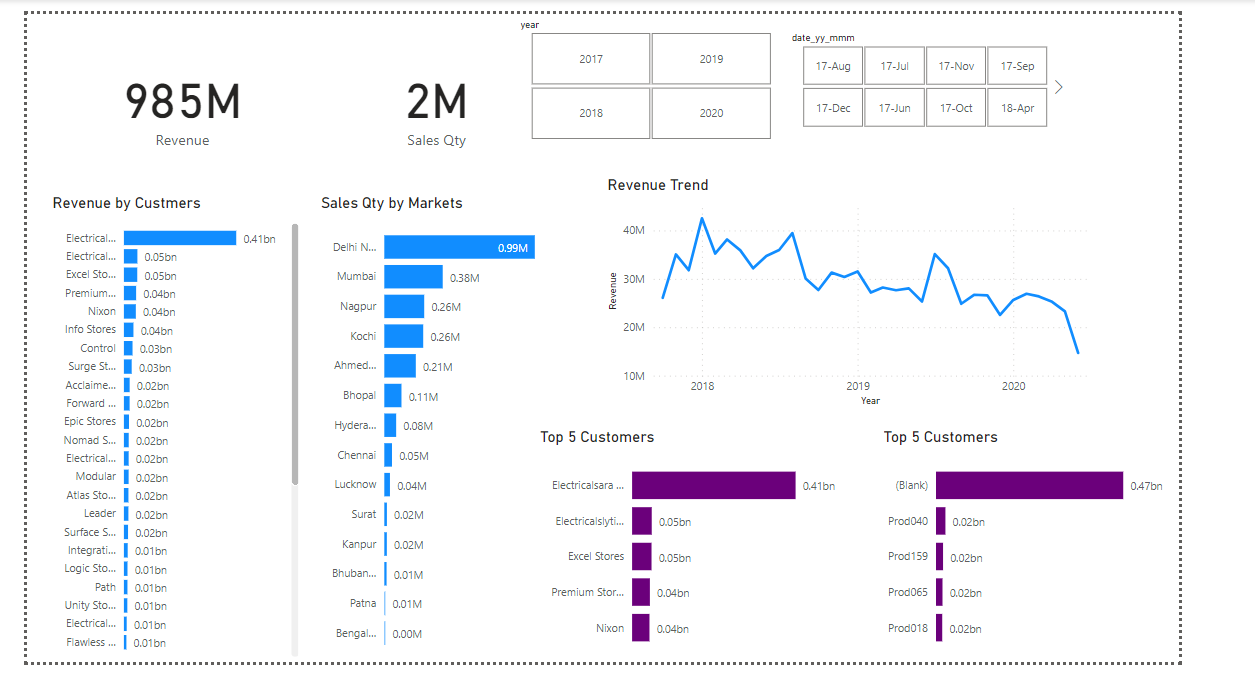

This screenshot's page, from the dashboard's own definition file:
{"tool":"powerbi","page":{"name":"Page 1","canvas":[1280,720],"ordinal":0},"visuals":[{"type":"card","fields":{"Values":["BaseMeasures.Revenue"]},"box":[22.7,0,298.3,200.1],"z":0},{"type":"card","fields":{"Values":["BaseMeasures.Sales Qty"]},"box":[305.8,0,296.4,200.1],"z":1000},{"type":"barChart","title":"Revenue by Custmers","fields":{"Category":["customers.custmer_name"],"Y":["BaseMeasures.Revenue"]},"box":[22.7,200.1,283.2,519.2],"z":2000},{"type":"barChart","title":"Sales Qty by Markets","fields":{"Y":["BaseMeasures.Sales Qty"],"Category":["markets.markets_name"]},"box":[320.9,200.1,249.2,519.2],"z":3000},{"type":"barChart","title":"Top 5 Customers","fields":{"Y":["BaseMeasures.Revenue"],"Category":["customers.custmer_name"]},"box":[564.5,460.6,375.7,258.6],"z":4000},{"type":"slicer","fields":{"Values":["date.year"]},"box":[534.3,0,315.3,145.4],"z":5000},{"type":"slicer","fields":{"Values":["date.date_yy_mmm"]},"box":[836.3,15.1,320.9,117.1],"z":6000},{"type":"barChart","title":"Top 5 Customers","fields":{"Category":["products.product_code"],"Y":["BaseMeasures.Revenue"]},"box":[945.8,460.6,334.2,258.6],"z":7000},{"type":"lineChart","title":"Revenue Trend","fields":{"Category":["date.cy_date.Variation.Date Hierarchy.Year","date.cy_date.Variation.Date Hierarchy.Month"],"Y":["BaseMeasures.Revenue"]},"box":[640,179.4,545.6,260.5],"z":8000}]}

Visuals, with their boxes on the page's 1280x720 design canvas (x1, y1, x2, y2). These are canvas units, not pixel positions in the 1255x678 screenshot, which may show the page scaled, cropped or inside an application window:
card - BaseMeasures.Revenue: [23, 0, 321, 200]
card - BaseMeasures.Sales Qty: [306, 0, 602, 200]
"Revenue by Custmers" barChart: [23, 200, 306, 719]
"Sales Qty by Markets" barChart: [321, 200, 570, 719]
"Top 5 Customers" barChart: [564, 461, 940, 719]
slicer - date.year: [534, 0, 850, 145]
slicer - date.date_yy_mmm: [836, 15, 1157, 132]
"Top 5 Customers" barChart: [946, 461, 1280, 719]
"Revenue Trend" lineChart: [640, 179, 1186, 440]
